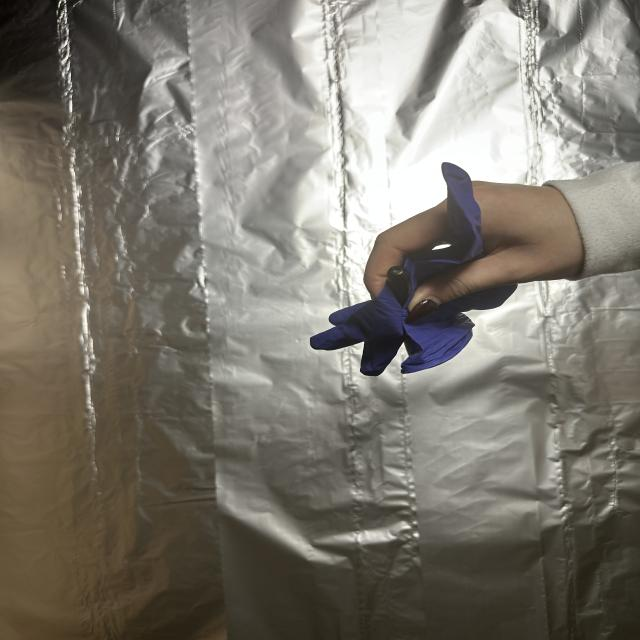glove_not_fitted: (300, 153, 594, 395)
